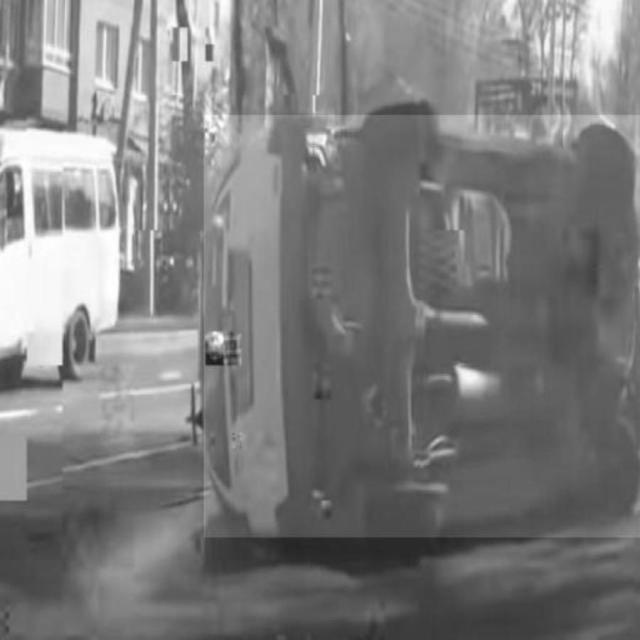vehicle: (204, 115, 640, 537), (0, 128, 118, 378)
